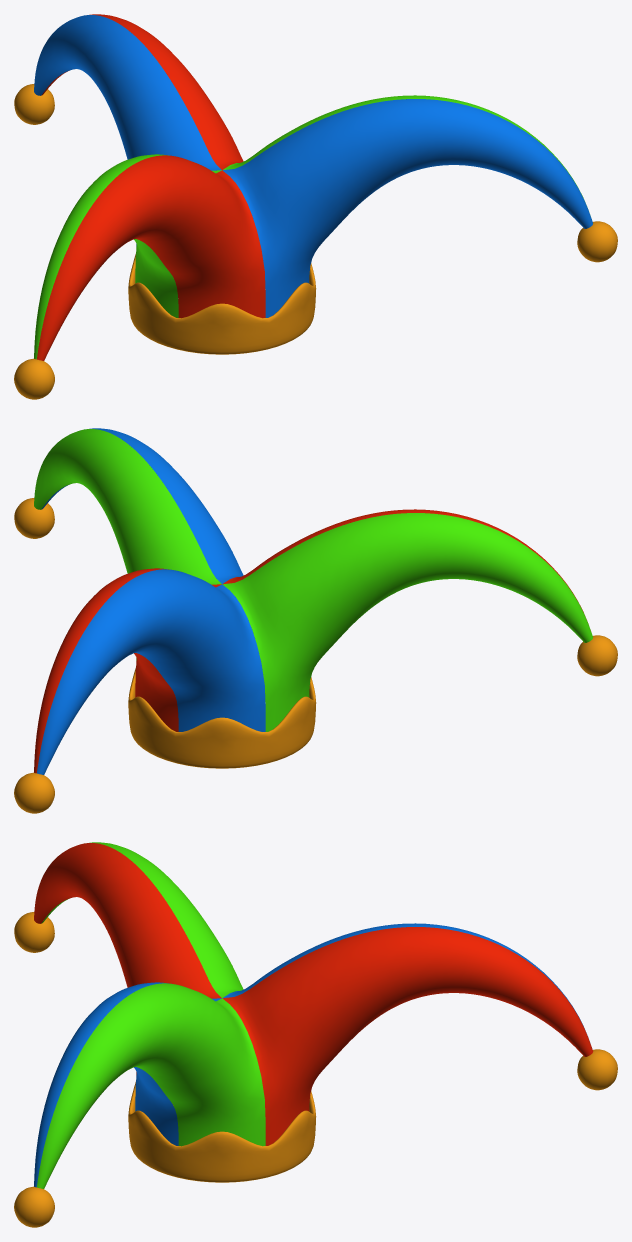
File: clown.glb
3 renders of one model, top to bottom at view 1: azimuth 30°, elevation 25°; view 2: azimuth 150°, elevation 25°; view 3: azimuth 270°, elevation 25°, orthographic.
Parts seen in each view (by area): view 1: Object_6, Object_4, Object_8, Object_5; view 2: Object_5, Object_6, Object_8, Object_4; view 3: Object_4, Object_5, Object_8, Object_6.
Boxes of the visible parts, x1,y1,x2,y2 form: Object_6: (34, 15, 592, 317); Object_4: (37, 14, 265, 360); Object_8: (14, 84, 617, 399); Object_5: (34, 95, 586, 359); Object_5: (34, 429, 592, 731); Object_6: (37, 428, 265, 774); Object_8: (14, 498, 617, 813); Object_4: (34, 509, 586, 773); Object_4: (34, 843, 593, 1145); Object_5: (36, 842, 265, 1188); Object_8: (14, 912, 617, 1227); Object_6: (34, 923, 586, 1187).
Size of the model in its own units: 11.14 by 3.87 by 9.73.
